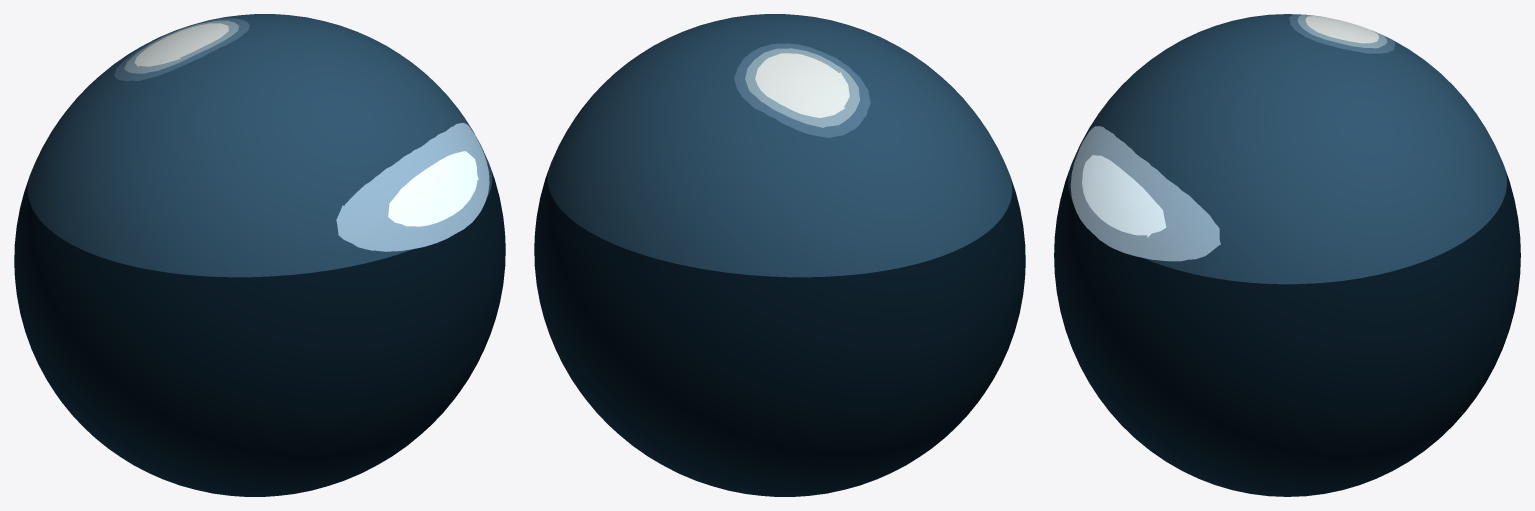
The model's file is ball_dark_241.glb.
The picture shows the model from 3 angles, left to right: view 1: azimuth 30°, elevation 25°; view 2: azimuth 150°, elevation 25°; view 3: azimuth 270°, elevation 25°; orthographic projection.
Visible parts, largest first — view 1: ball_dark_241; view 2: ball_dark_241; view 3: ball_dark_241.
Part boxes in pixels (box(x1,y1,x2,y2)): ball_dark_241: box(14, 14, 505, 496); ball_dark_241: box(534, 14, 1025, 496); ball_dark_241: box(1054, 14, 1520, 496).
Size of the model in its own units: 18 by 17.5 by 17.
